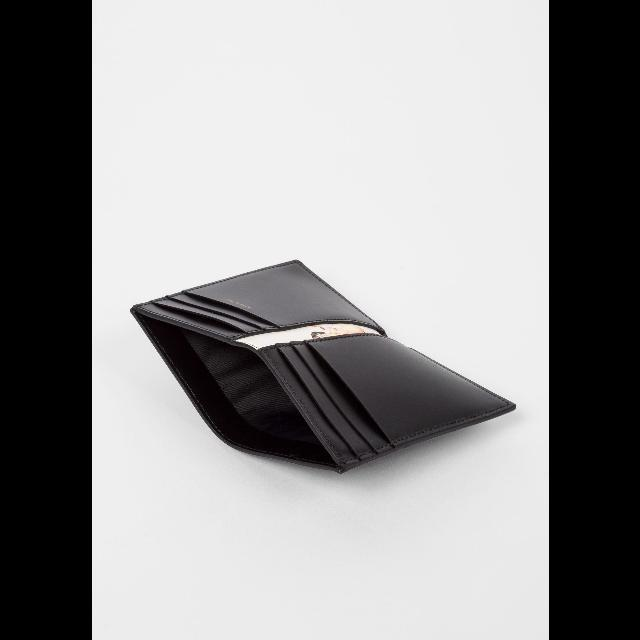wallet: (130, 259, 516, 473)
